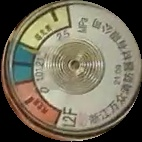green: (10, 45, 38, 81)
needle: (19, 44, 46, 59)
red: (12, 84, 62, 128)
yellow: (21, 4, 69, 52)
